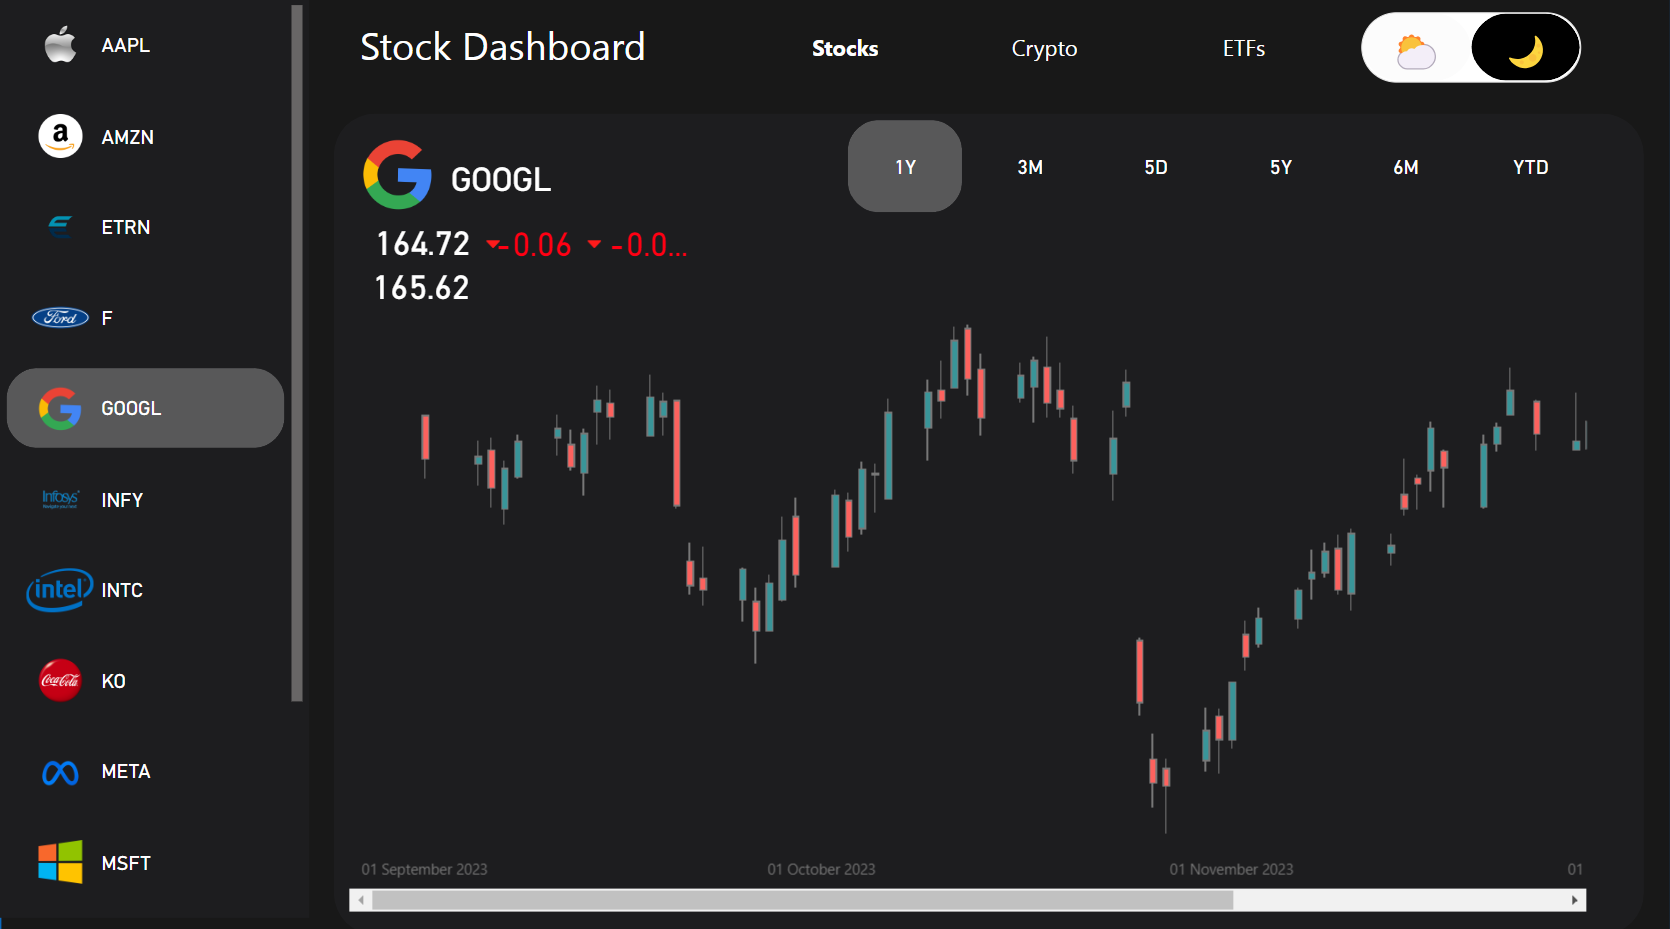

This screenshot's page, from the dashboard's own definition file:
{"tool":"powerbi","page":{"name":"Stocks","canvas":[1280,720],"ordinal":0},"visuals":[{"type":"shape","box":[40,38.2,1215.5,680],"z":0,"group":"g1"},{"type":"group","id":"g1","title":"Market Dashboard","box":[40,37.9,1215.5,680.7],"z":0},{"type":"shape","box":[282.9,121.4,952.9,597.1],"z":1000,"group":"g1"},{"type":"PBI_CV_886A053E_9DFD_4EA0_A47D_CCAEB89AF969","fields":{"Category":["Stocks Data.Date.Variation.Date Hierarchy.Day"],"open":["Min(Stocks Data.Open)"],"close":["Min(Stocks Data.Close)"],"high":["Min(Stocks Data.High)"],"low":["Min(Stocks Data.Low)"]},"box":[282.5,199.3,922,507.5],"z":2000,"group":"g1"},{"type":"shape","box":[40.4,39.1,225,667.7],"z":3000,"group":"g1"},{"type":"advancedSlicerVisual","fields":{"Values":["Stocks Data.Symbol"]},"box":[40.4,37.9,225,668.9],"z":4000,"group":"g1"},{"type":"advancedSlicerVisual","fields":{"Values":["Stocks Data.Date Category"]},"box":[651.4,121.4,552.9,77.1],"z":5000,"group":"g1"},{"type":"advancedSlicerVisual","fields":{"Values":["Color Codes.Icon"]},"box":[1029.6,47.7,160.2,51.4],"z":6000,"group":"g1"},{"type":"cardVisual","fields":{"Data":["Min(Stocks Data.Logo)"]},"box":[282.7,122.1,98.8,91.9],"z":7000,"group":"g1"},{"type":"card","fields":{"Values":["Min(Stocks Data.Symbol)"]},"box":[345.7,143.4,118.9,50.3],"z":8000,"group":"g1"},{"type":"card","fields":{"Values":["Stocks Data.Open_Value"]},"box":[301.7,199.1,90.9,33],"z":10000,"group":"g1"},{"type":"card","fields":{"Values":["Stocks Data.Close_Value"]},"box":[299.5,231.9,94.3,31.4],"z":11000,"group":"g1"},{"type":"card","fields":{"Values":["Stocks Data.Open_Close_Diff"]},"box":[392.5,199.6,71,32.5],"z":12000,"group":"g1"},{"type":"card","fields":{"Values":["Stocks Data.Diff_%"]},"box":[472.5,199.7,77.1,32.9],"z":13000,"group":"g1"},{"type":"cardVisual","fields":{"Data":["Min(Stocks Data.Logo)"]},"box":[382,193.4,33.6,36.6],"z":14000,"group":"g1"},{"type":"cardVisual","fields":{"Data":["Min(Stocks Data.Logo)"]},"box":[455.4,193.2,33.8,36.9],"z":15000,"group":"g1"},{"type":"shape","box":[302,37.9,247,66],"z":16000,"group":"g1"},{"type":"pageNavigator","box":[587,52.6,425.5,41.6],"z":17000,"group":"g1"}]}

Visuals, with their boxes in screenshot pixels (x1, y1, x2, y2), scaled from the page's 1280x720 canvas onto the 1670x929 screenshot:
shape: bbox=[52, 49, 1638, 927]
"Market Dashboard" group: bbox=[52, 49, 1638, 927]
shape: bbox=[369, 157, 1612, 927]
PBI_CV_886A053E_9DFD_4EA0_A47D_CCAEB89AF969 - Stocks Data.Date.Variation.Date Hierarchy.Day x Min(Stocks Data.Open): bbox=[369, 257, 1571, 912]
shape: bbox=[53, 50, 346, 912]
advancedSlicerVisual - Stocks Data.Symbol: bbox=[53, 49, 346, 912]
advancedSlicerVisual - Stocks Data.Date Category: bbox=[850, 157, 1571, 256]
advancedSlicerVisual - Color Codes.Icon: bbox=[1343, 62, 1552, 128]
cardVisual - Min(Stocks Data.Logo): bbox=[369, 158, 498, 276]
card - Min(Stocks Data.Symbol): bbox=[451, 185, 606, 250]
card - Stocks Data.Open_Value: bbox=[394, 257, 512, 299]
card - Stocks Data.Close_Value: bbox=[391, 299, 514, 340]
card - Stocks Data.Open_Close_Diff: bbox=[512, 258, 605, 299]
card - Stocks Data.Diff_%: bbox=[616, 258, 717, 300]
cardVisual - Min(Stocks Data.Logo): bbox=[498, 250, 542, 297]
cardVisual - Min(Stocks Data.Logo): bbox=[594, 249, 638, 297]
shape: bbox=[394, 49, 716, 134]
pageNavigator: bbox=[766, 68, 1321, 122]
